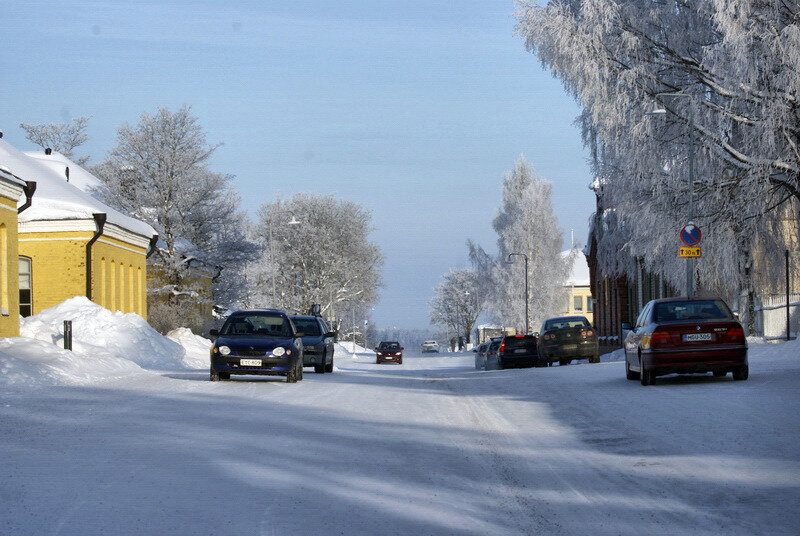sign: (679, 224, 702, 246), (679, 246, 702, 258)
